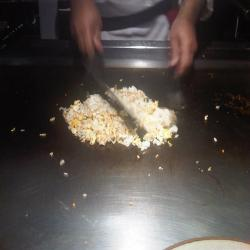rice: (63, 85, 183, 157)
